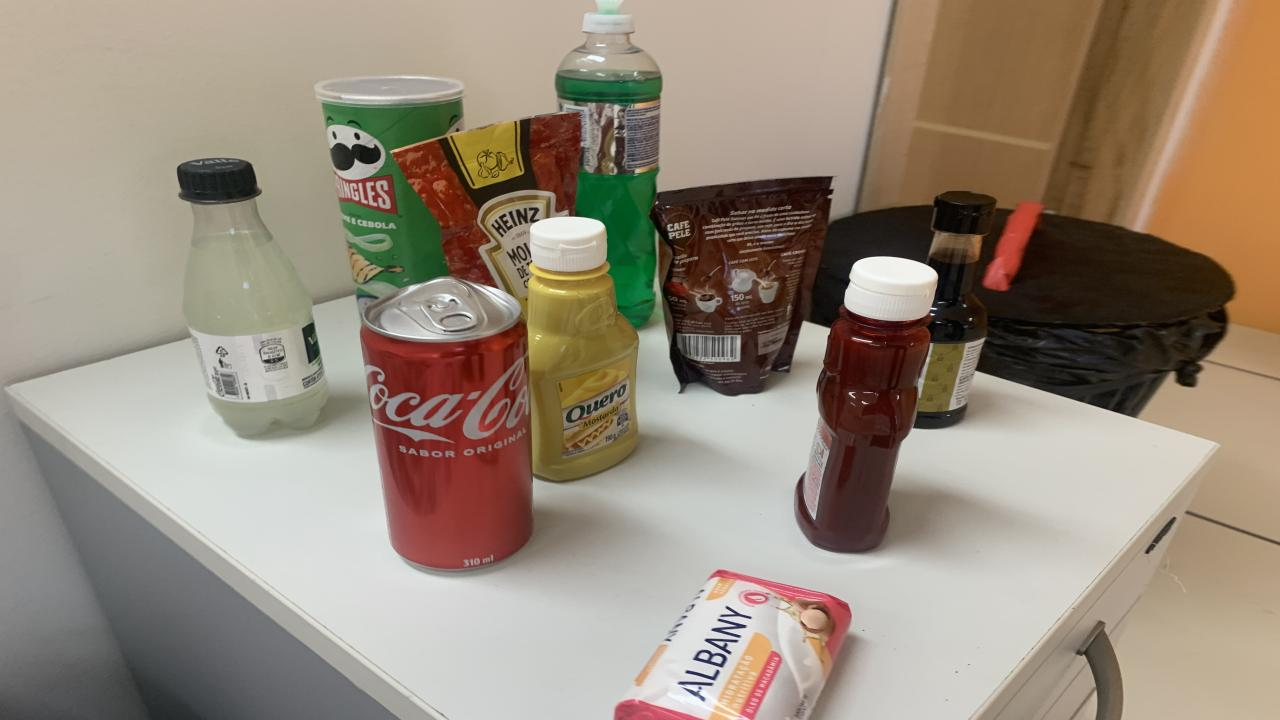Coffee-Pantry_Items: (650, 176, 832, 396)
Coke-Drinks: (360, 276, 532, 570)
Detergent-Cleanup_Items: (555, 0, 662, 326)
English_Sauce-Pantry_Items: (915, 191, 995, 428)
Ketchup-Pantry_Items: (795, 257, 938, 551)
Mustard-Pantry_Items: (528, 218, 638, 482)
Pringles-Snacks: (315, 75, 465, 308)
Soap-Cleanup_Items: (615, 570, 850, 720)
Soda-Drinks: (178, 158, 328, 435)
Tomato_Sauce-Pantry_Items: (390, 112, 580, 298)
